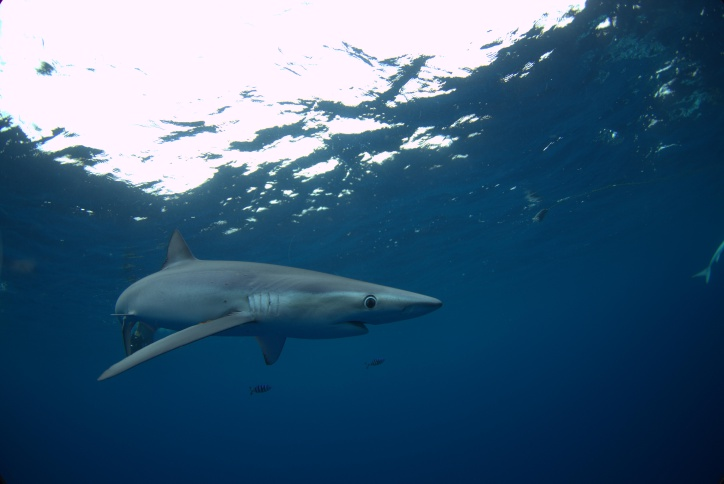Azul: (65, 212, 438, 398), (253, 303, 556, 448)
